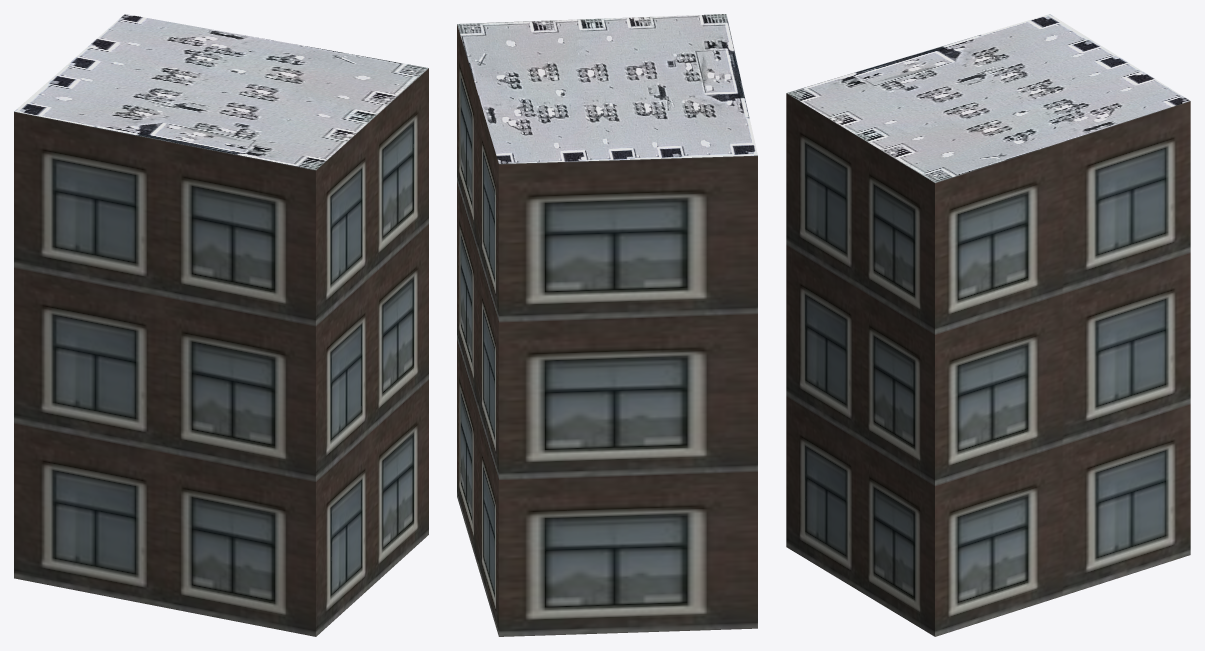
Rendered from ResTex__2796.fbx.
3 renders of one model, left to right at view 1: azimuth 30°, elevation 25°; view 2: azimuth 150°, elevation 25°; view 3: azimuth 270°, elevation 25°, orthographic. The views are drawn at different scales.
Parts seen in each view (by area): view 1: CityEngineMaterial_16_m, CityEngineMaterial_15_m; view 2: CityEngineMaterial_16_m, CityEngineMaterial_15_m; view 3: CityEngineMaterial_16_m, CityEngineMaterial_15_m.
Boxes of the visible parts, x1=… form: CityEngineMaterial_16_m: x1=14, y1=68, x2=428, y2=636; CityEngineMaterial_15_m: x1=14, y1=14, x2=428, y2=169; CityEngineMaterial_16_m: x1=457, y1=24, x2=757, y2=636; CityEngineMaterial_15_m: x1=457, y1=14, x2=757, y2=163; CityEngineMaterial_16_m: x1=786, y1=93, x2=1190, y2=636; CityEngineMaterial_15_m: x1=786, y1=14, x2=1189, y2=182.
Bounding box in the file's own units: 7.18 × 9 × 7.27.
2 materials, 2 textured.
